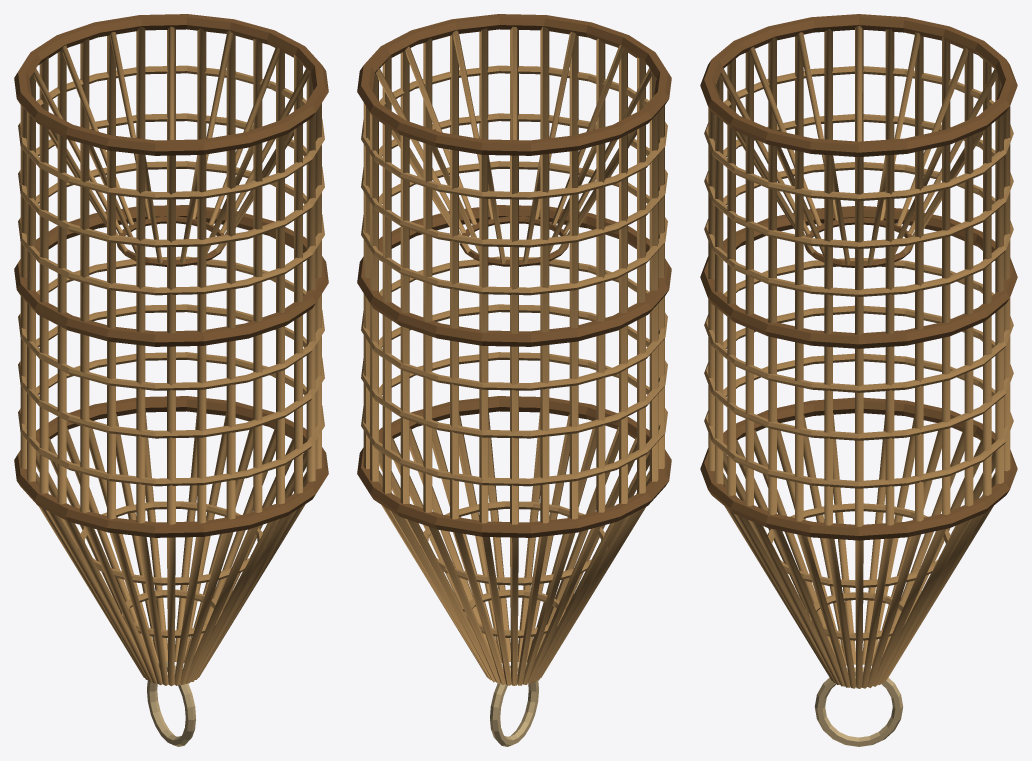
The model's file is fischreuse.glb.
3 renders of one model, left to right at view 1: azimuth 30°, elevation 25°; view 2: azimuth 150°, elevation 25°; view 3: azimuth 270°, elevation 25°, orthographic.
Parts seen in each view (by area): view 1: fischreuse; view 2: fischreuse; view 3: fischreuse.
Boxes of the visible parts, <box> form: fischreuse: <box>14,14,328,746</box>; fischreuse: <box>357,14,671,746</box>; fischreuse: <box>700,14,1017,746</box>.
Bounding box in the file's own units: 0.366 × 0.8488 × 0.366.
